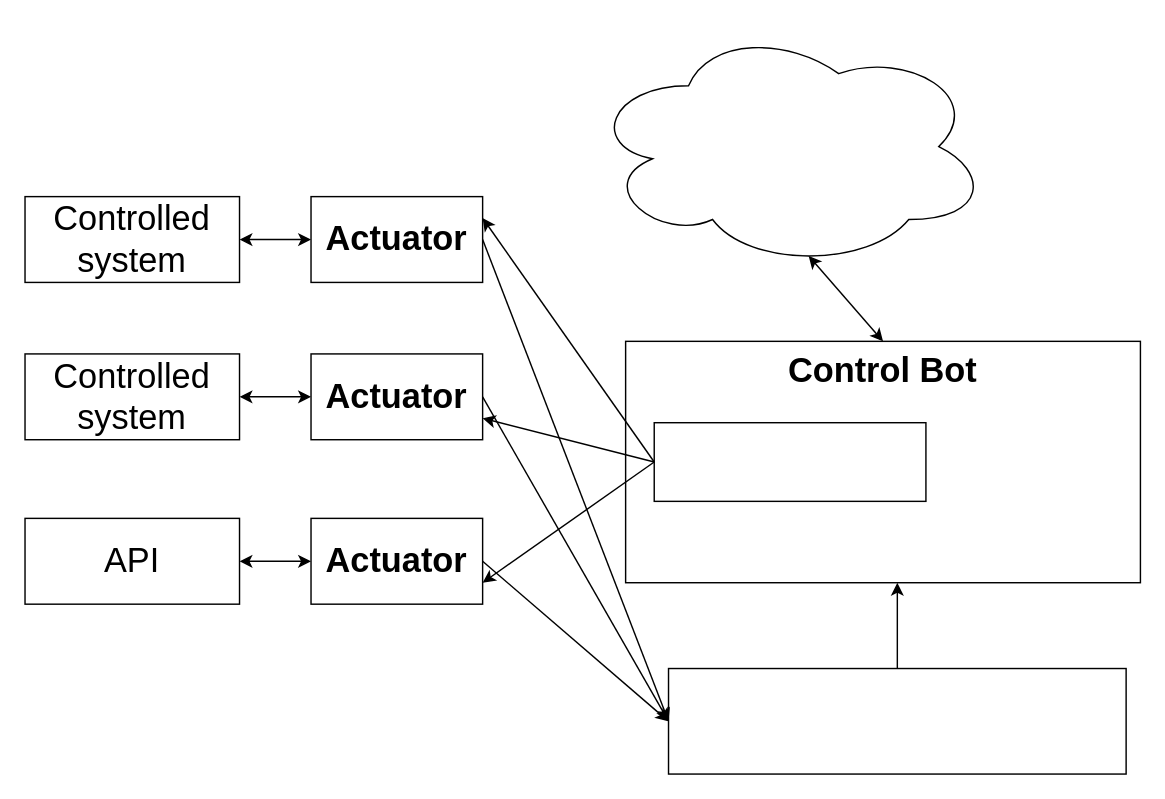
This 1165x799 diagram has some shape labels left out. The shapes that lost their labels are listed below. From the top down, each one's centre as x and y in pixels, then its label:
At (788,146): "Telegram API".
At (789,461): "SSE server".
At (896,720): "Consumer (RabbitMQ, HTTP, etc)".
